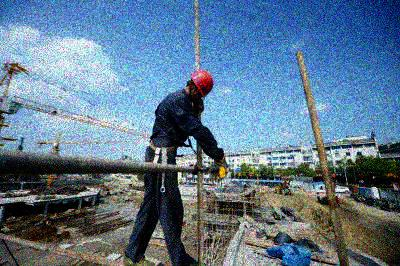helmet: (184, 70, 215, 97)
